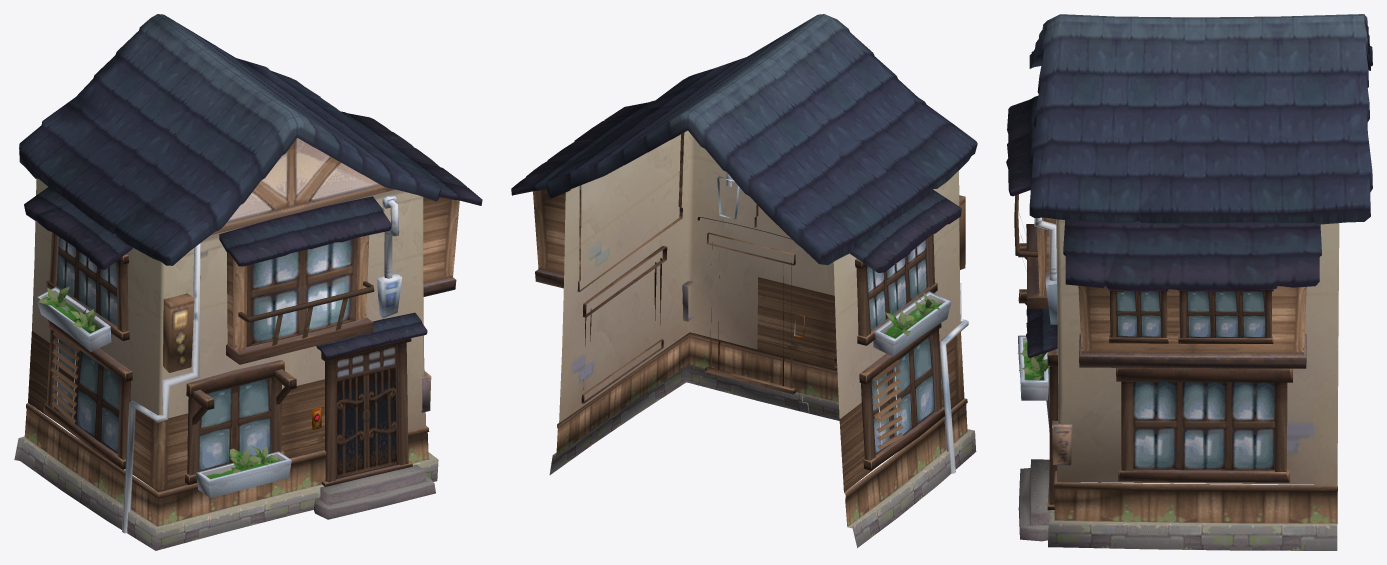
Rendered from hbxz_jz002_04.FBX.
3 views of the same model, side by side, from view 1: azimuth 30°, elevation 25°; view 2: azimuth 150°, elevation 25°; view 3: azimuth 270°, elevation 25° (orthographic). The views are drawn at different scales.
Visible parts, largest first — view 1: hbxz_jz002_04; view 2: hbxz_jz002_04; view 3: hbxz_jz002_04.
Part boxes in pixels (x1,y1,x2,y2): hbxz_jz002_04: (14, 14, 482, 550); hbxz_jz002_04: (511, 14, 977, 548); hbxz_jz002_04: (1006, 14, 1372, 550).
Size of the model in its own units: 489 by 509 by 372.
3 materials, 3 textured.
